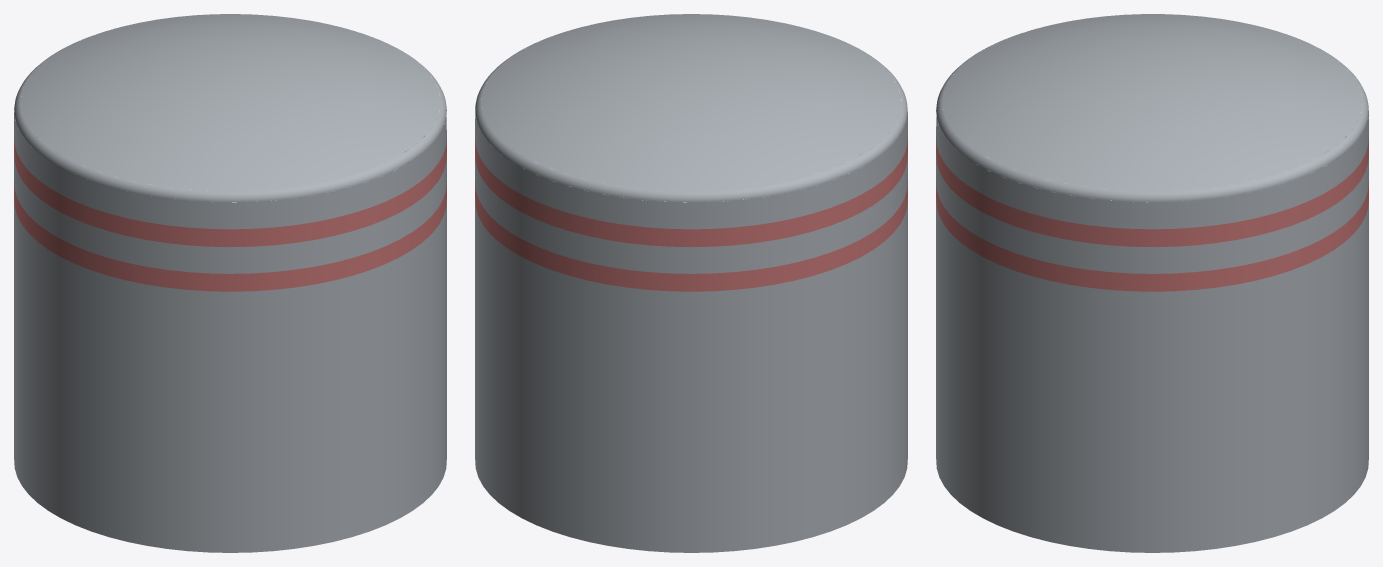
Rendered from step_03.glb.
The picture shows the model from 3 angles, left to right: view 1: azimuth 30°, elevation 25°; view 2: azimuth 150°, elevation 25°; view 3: azimuth 270°, elevation 25°; orthographic projection.
Parts seen in each view (by area): view 1: part__piston head, removed__piston head; view 2: part__piston head, removed__piston head; view 3: part__piston head, removed__piston head.
Part boxes in pixels (left/top/right/bottom): part__piston head: left=14, top=14, right=446, bottom=552; removed__piston head: left=14, top=119, right=446, bottom=291; part__piston head: left=475, top=14, right=907, bottom=552; removed__piston head: left=475, top=116, right=907, bottom=291; part__piston head: left=936, top=14, right=1368, bottom=552; removed__piston head: left=936, top=121, right=1368, bottom=291.
Bounding box in the file's own units: 43.99 × 44 × 44.
